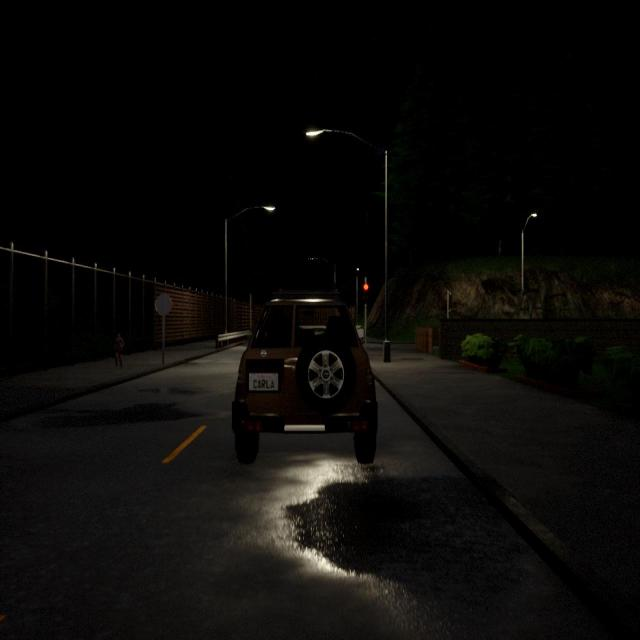Pedestrian: (114, 333, 124, 368)
Traffic_Signs: (156, 292, 173, 316)
Vehicle: (232, 298, 377, 461)
traffic_light: (362, 282, 369, 302), (449, 295, 452, 309)
